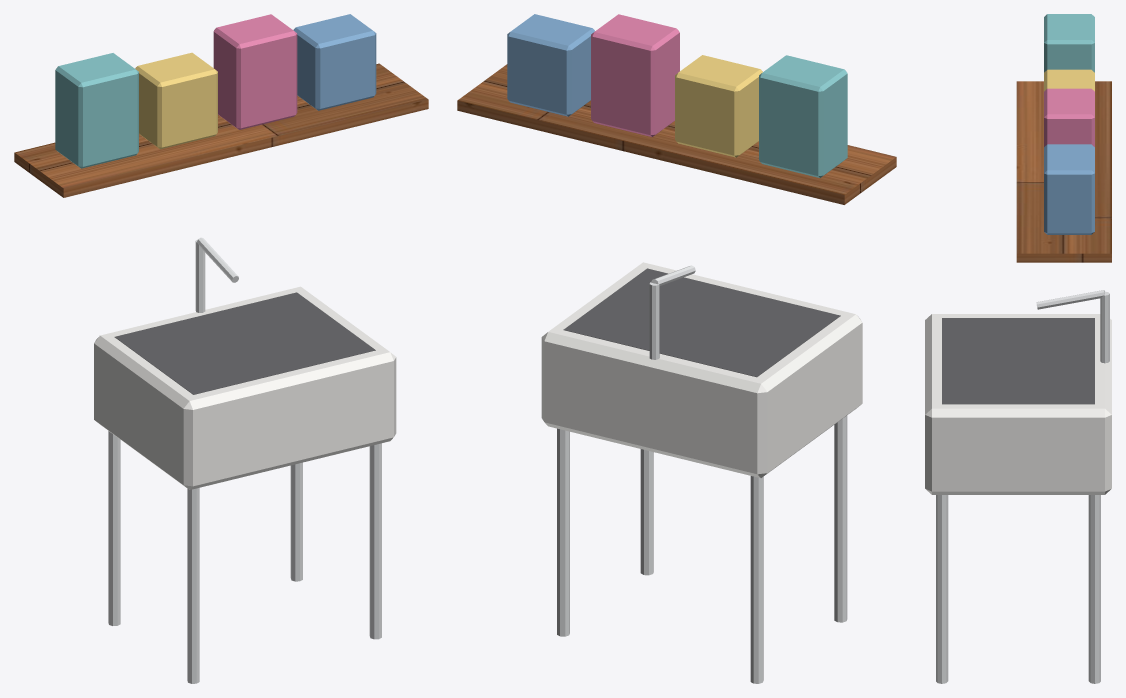
Rendered from utility_sink.glb.
3 views of the same model, side by side, from view 1: azimuth 30°, elevation 25°; view 2: azimuth 150°, elevation 25°; view 3: azimuth 270°, elevation 25° (orthographic). The views are drawn at different scales.
Visible parts, largest first — view 1: utility_sink_enamel, utility_sink_dark, utility_sink_teak, utility_sink_chrome, utility_sink_accent2, utility_sink_accent, utility_sink_paint_b, utility_sink_accent3; view 2: utility_sink_enamel, utility_sink_dark, utility_sink_teak, utility_sink_chrome, utility_sink_accent2, utility_sink_accent, utility_sink_accent3, utility_sink_paint_b; view 3: utility_sink_enamel, utility_sink_dark, utility_sink_teak, utility_sink_chrome, utility_sink_paint_b, utility_sink_accent, utility_sink_accent2, utility_sink_accent3.
Boxes of the visible parts, x1,y1,x2,y2 form: utility_sink_enamel: (94,286,396,489); utility_sink_dark: (114,292,375,394); utility_sink_teak: (14,63,428,197); utility_sink_chrome: (108,237,381,683); utility_sink_accent2: (55,53,138,168); utility_sink_accent: (213,14,297,129); utility_sink_paint_b: (293,14,376,110); utility_sink_accent3: (135,52,217,149); utility_sink_enamel: (541,262,862,478); utility_sink_dark: (563,268,840,377); utility_sink_teak: (457,64,896,204); utility_sink_chrome: (557,265,847,683); utility_sink_accent2: (759,55,847,177); utility_sink_accent: (591,14,679,137); utility_sink_accent3: (675,55,762,157); utility_sink_paint_b: (507,14,594,116); utility_sink_enamel: (925,314,1111,494); utility_sink_dark: (942,318,1094,404); utility_sink_teak: (1016,81,1111,262); utility_sink_chrome: (936,290,1109,683); utility_sink_paint_b: (1044,144,1094,234); utility_sink_accent: (1044,88,1094,146); utility_sink_accent2: (1044,14,1094,72); utility_sink_accent3: (1044,69,1094,91).
Bounding box in the file's own units: 1.2 × 1.8 × 0.55.
Materials: 8 (1 with a texture image).
